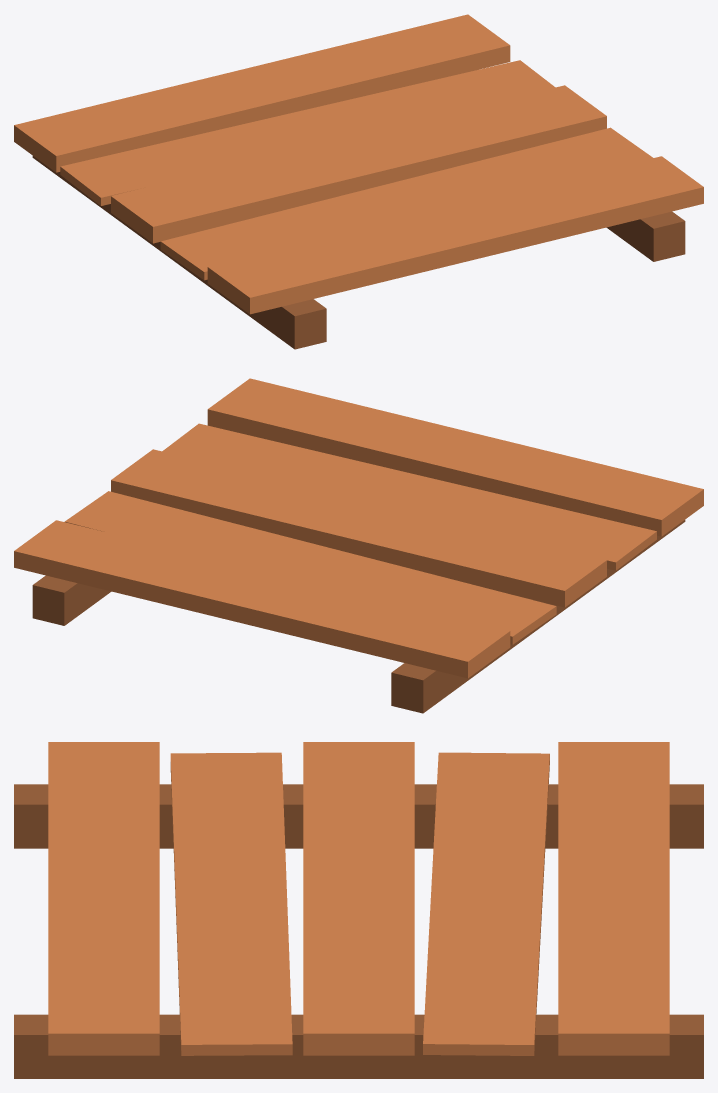
The model's file is platform.dae.
3 views of the same model, one above another, from view 1: azimuth 30°, elevation 25°; view 2: azimuth 150°, elevation 25°; view 3: azimuth 270°, elevation 25° (orthographic). The views are drawn at different scales.
Visible parts, largest first — view 1: platform; view 2: platform; view 3: platform.
Part boxes in pixels (box(x1,y1,x2,y2)): platform: box(14, 14, 703, 349); platform: box(14, 378, 703, 713); platform: box(14, 742, 703, 1078).
Size of the model in its own units: 1 by 0.105 by 1.
